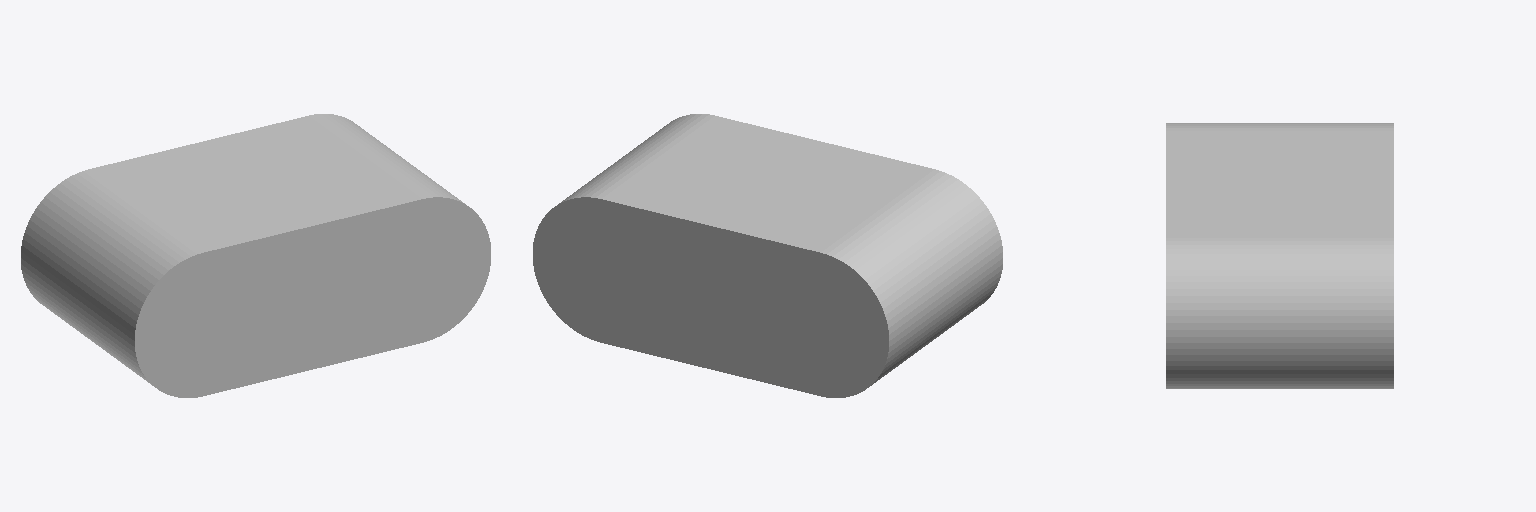
File: CarBody.obj
The picture shows the model from 3 angles: view 1: azimuth 30°, elevation 25°; view 2: azimuth 150°, elevation 25°; view 3: azimuth 270°, elevation 25°; orthographic projection.
Visible parts, largest first — view 1: CarBody; view 2: CarBody; view 3: CarBody.
Part boxes in pixels (bbox=[...]): CarBody: bbox=[21, 114, 490, 397]; CarBody: bbox=[533, 114, 1002, 397]; CarBody: bbox=[1166, 123, 1393, 388].
Size of the model in its own units: 0.13 by 0.05 by 0.072.